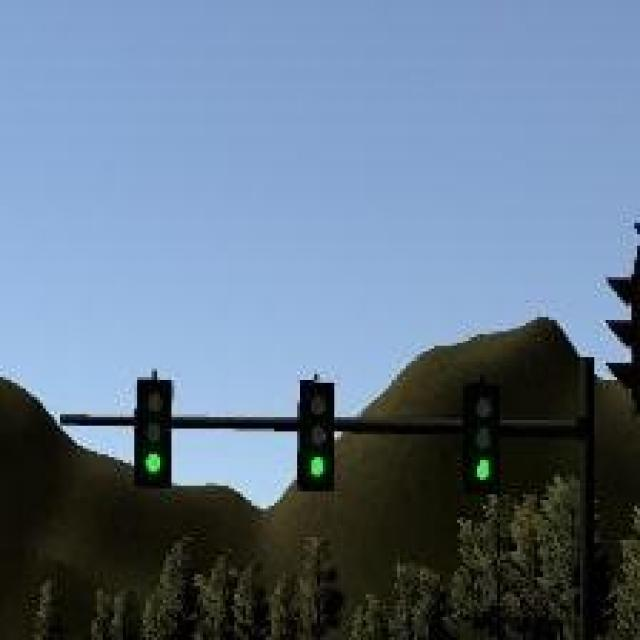green_light: (460, 383, 500, 492), (132, 380, 169, 488), (303, 380, 334, 492)
